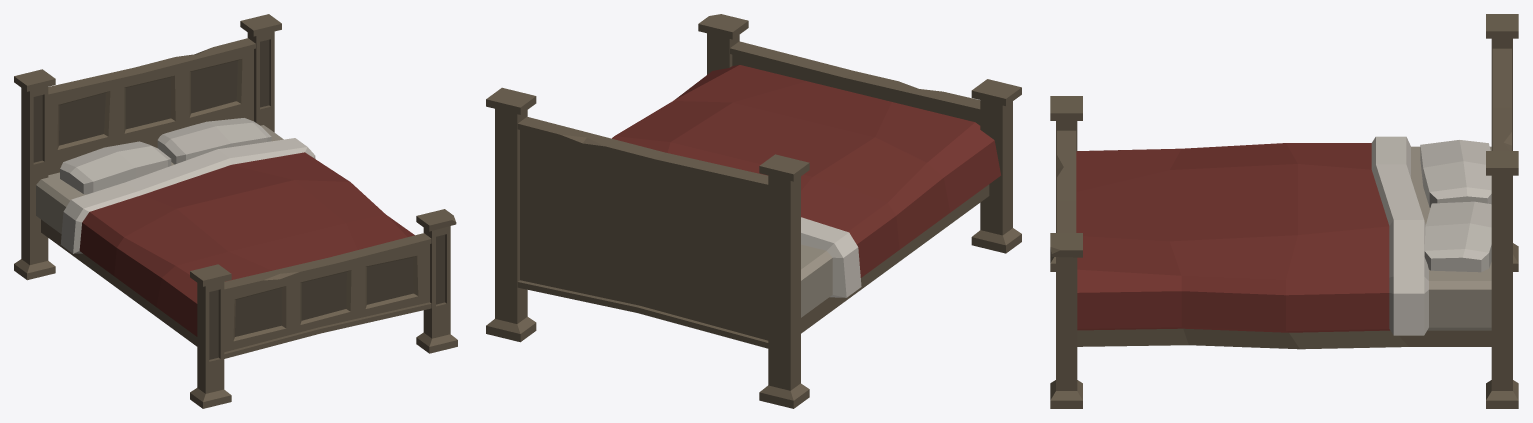
Rendered from lit_double.obj.
3 renders of one model, left to right at view 1: azimuth 30°, elevation 25°; view 2: azimuth 150°, elevation 25°; view 3: azimuth 270°, elevation 25°, orthographic. The views are drawn at different scales.
Parts seen in each view (by area): view 1: SM_Prop_Bed_01_281_SM_Prop_Bed_01; view 2: SM_Prop_Bed_01_281_SM_Prop_Bed_01; view 3: SM_Prop_Bed_01_281_SM_Prop_Bed_01.
Part boxes in pixels (left/top/right/bottom): SM_Prop_Bed_01_281_SM_Prop_Bed_01: left=14, top=14, right=457, bottom=408; SM_Prop_Bed_01_281_SM_Prop_Bed_01: left=486, top=14, right=1021, bottom=408; SM_Prop_Bed_01_281_SM_Prop_Bed_01: left=1050, top=14, right=1518, bottom=408.
Size of the model in its own units: 2.08 by 1.52 by 2.67.
